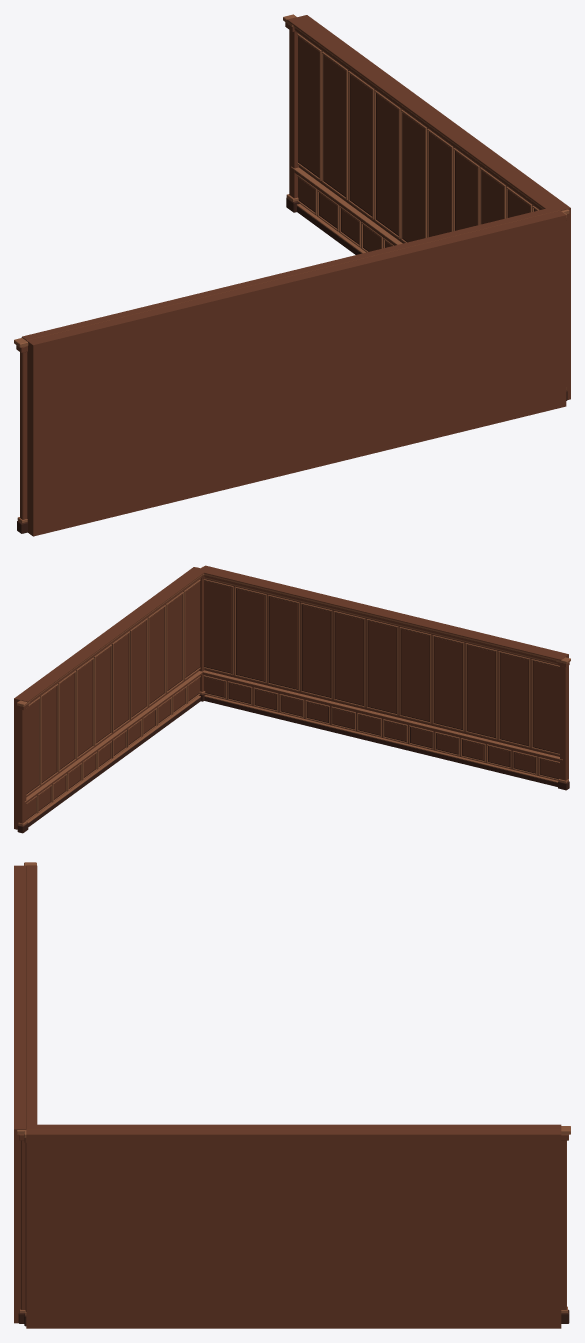
Rendered from main_dining_complete_shell.glb.
The picture shows the model from 3 angles, top to bottom: view 1: azimuth 30°, elevation 25°; view 2: azimuth 150°, elevation 25°; view 3: azimuth 270°, elevation 25°; orthographic projection. The views are drawn at different scales.
Parts seen in each view (by area): view 1: main_dining_front_Wall_Solid_00, main_dining_right_Wall_Solid_00, main_dining_front_Wall_Cornice_00_3_0, main_dining_right_Wall_UpperPanel_00_0_2_Field, main_dining_right_Wall_UpperPanel_00_0_3_Field, main_dining_right_Wall_Cornice_00_3_0, main_dining_right_Wall_UpperPanel_00_0_1_Field, main_dining_right_Wall_UpperPanel_00_0_0_Field, main_dining_right_Wall_UpperPanel_00_0_4_Field, main_dining_right_Wall_UpperPanel_00_0_5_Field, main_dining_right_Wall_UpperPanel_00_0_6_Field, Pilaster_Shaft_004 (+4 smaller); view 2: main_dining_front_Wall_Solid_00, main_dining_front_Wall_UpperPanel_00_0_7_Field, main_dining_right_Wall_Solid_00, main_dining_front_Wall_UpperPanel_00_0_2_Field, main_dining_front_Wall_UpperPanel_00_0_6_Field, main_dining_front_Wall_UpperPanel_00_0_8_Field, main_dining_front_Wall_UpperPanel_00_0_4_Field, main_dining_front_Wall_UpperPanel_00_0_5_Field, main_dining_front_Wall_UpperPanel_00_0_9_Field, main_dining_front_Wall_UpperPanel_00_0_1_Field, main_dining_front_Wall_UpperPanel_00_0_3_Field, main_dining_front_Wall_UpperPanel_00_0_0_Field (+35 smaller); view 3: main_dining_right_Wall_Solid_00, main_dining_front_Wall_Solid_00, main_dining_front_Wall_Cornice_00_3_0, main_dining_right_Wall_Cornice_00_3_0, Pilaster_Shaft_004, Pilaster_Shaft_005.
Boxes of the visible parts, x1,y1,x2,y2 form: main_dining_front_Wall_Solid_00: (27,210,566,536); main_dining_right_Wall_Solid_00: (297,15,570,399); main_dining_front_Wall_Cornice_00_3_0: (21,207,559,340); main_dining_right_Wall_UpperPanel_00_0_2_Field: (350,74,372,215); main_dining_right_Wall_UpperPanel_00_0_3_Field: (376,94,398,234); main_dining_right_Wall_Cornice_00_3_0: (287,17,558,211); main_dining_right_Wall_UpperPanel_00_0_1_Field: (324,55,345,196); main_dining_right_Wall_UpperPanel_00_0_0_Field: (298,36,319,176); main_dining_right_Wall_UpperPanel_00_0_4_Field: (403,113,424,242); main_dining_right_Wall_UpperPanel_00_0_5_Field: (429,132,451,236); main_dining_right_Wall_UpperPanel_00_0_6_Field: (455,152,477,230); Pilaster_Shaft_004: (289,30,298,198); main_dining_front_Wall_Solid_00: (201,565,568,780); main_dining_front_Wall_UpperPanel_00_0_7_Field: (434,637,462,729); main_dining_right_Wall_Solid_00: (14,567,200,829); main_dining_front_Wall_UpperPanel_00_0_2_Field: (269,597,297,688); main_dining_front_Wall_UpperPanel_00_0_6_Field: (401,629,429,721); main_dining_front_Wall_UpperPanel_00_0_8_Field: (467,645,495,737); main_dining_front_Wall_UpperPanel_00_0_4_Field: (335,613,363,705); main_dining_front_Wall_UpperPanel_00_0_5_Field: (368,621,396,713); main_dining_front_Wall_UpperPanel_00_0_9_Field: (500,653,528,745); main_dining_front_Wall_UpperPanel_00_0_1_Field: (236,589,264,680); main_dining_front_Wall_UpperPanel_00_0_3_Field: (302,605,330,696); main_dining_front_Wall_UpperPanel_00_0_0_Field: (204,581,231,672); main_dining_right_Wall_Solid_00: (26,1129,561,1328); main_dining_front_Wall_Solid_00: (14,865,26,1323); main_dining_front_Wall_Cornice_00_3_0: (26,865,37,1128); main_dining_right_Wall_Cornice_00_3_0: (27,1124,561,1129); Pilaster_Shaft_004: (561,1140,566,1309); Pilaster_Shaft_005: (21,1140,25,1309).
Bounding box in the file's own units: 14.5 × 4.81 × 12.5.
